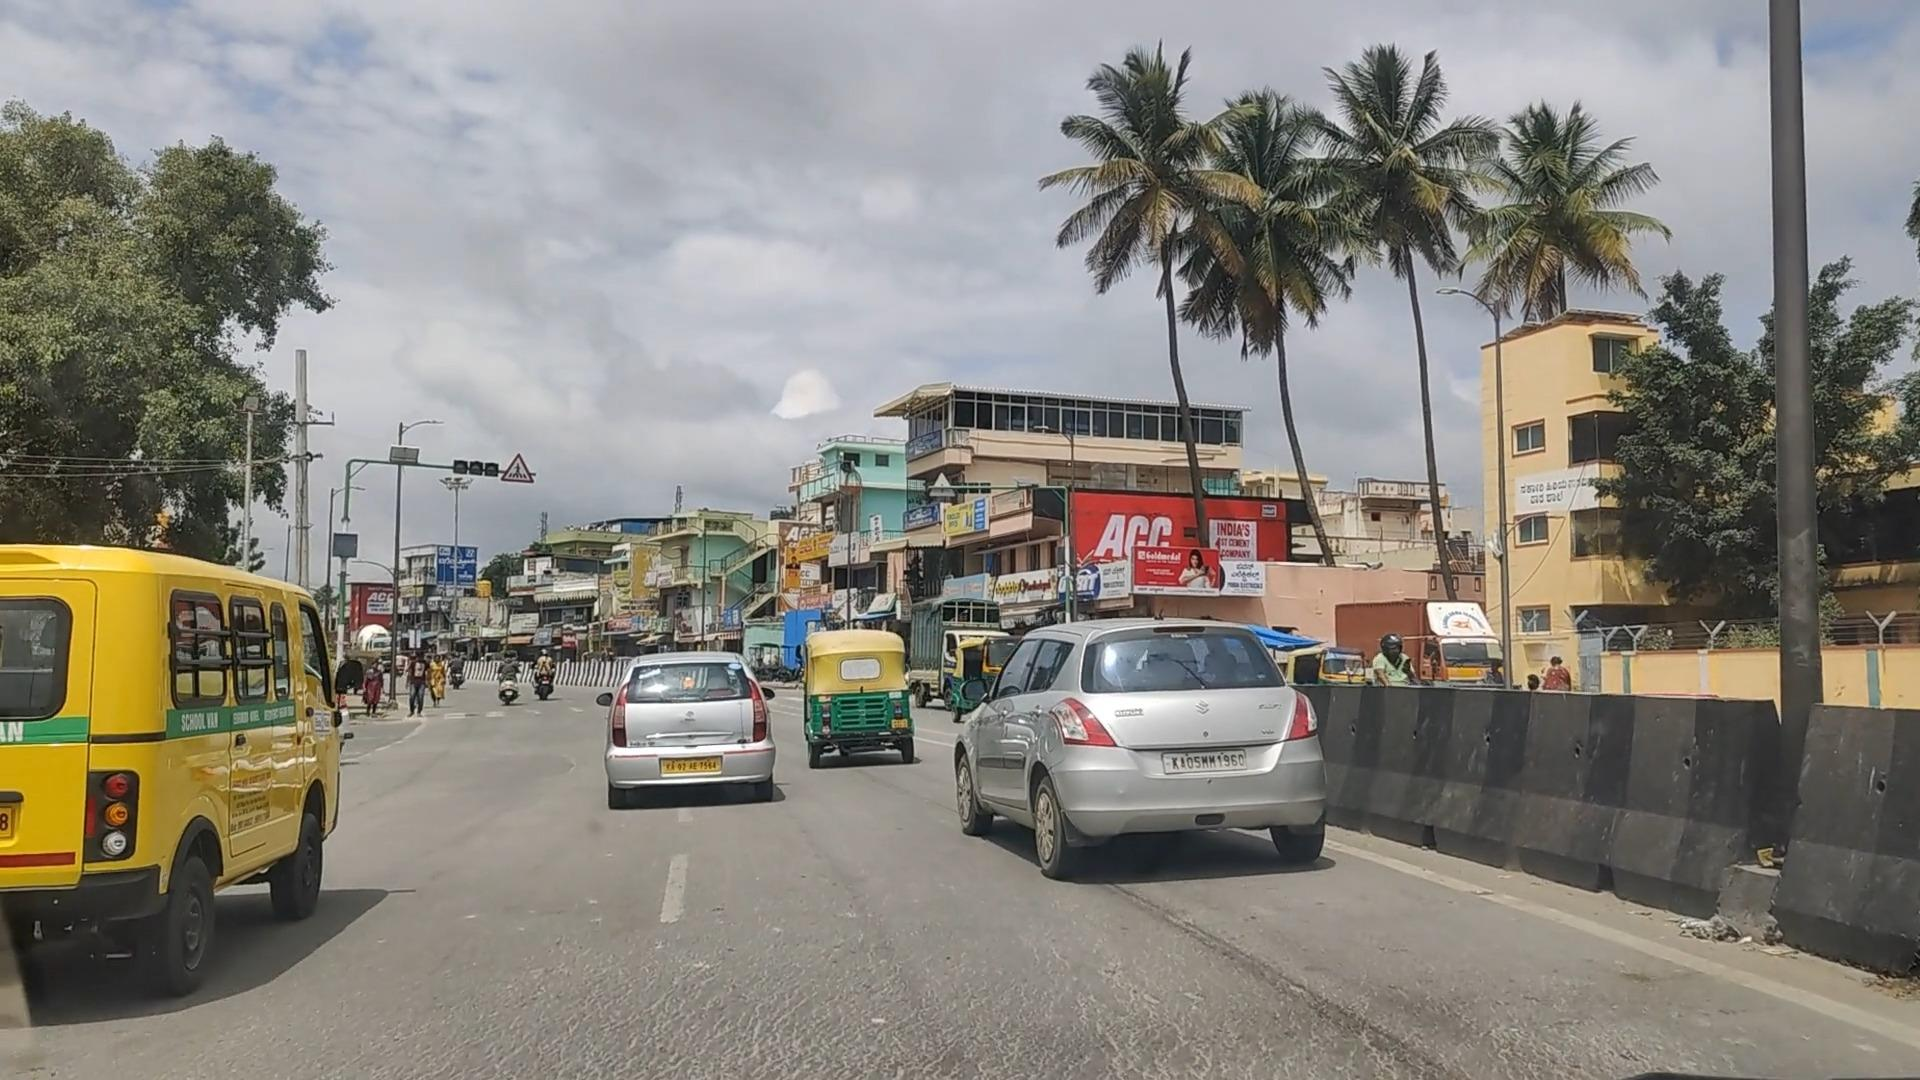LMV: (0, 463, 356, 1004), (947, 558, 1345, 902), (582, 605, 812, 843), (796, 608, 955, 807)
